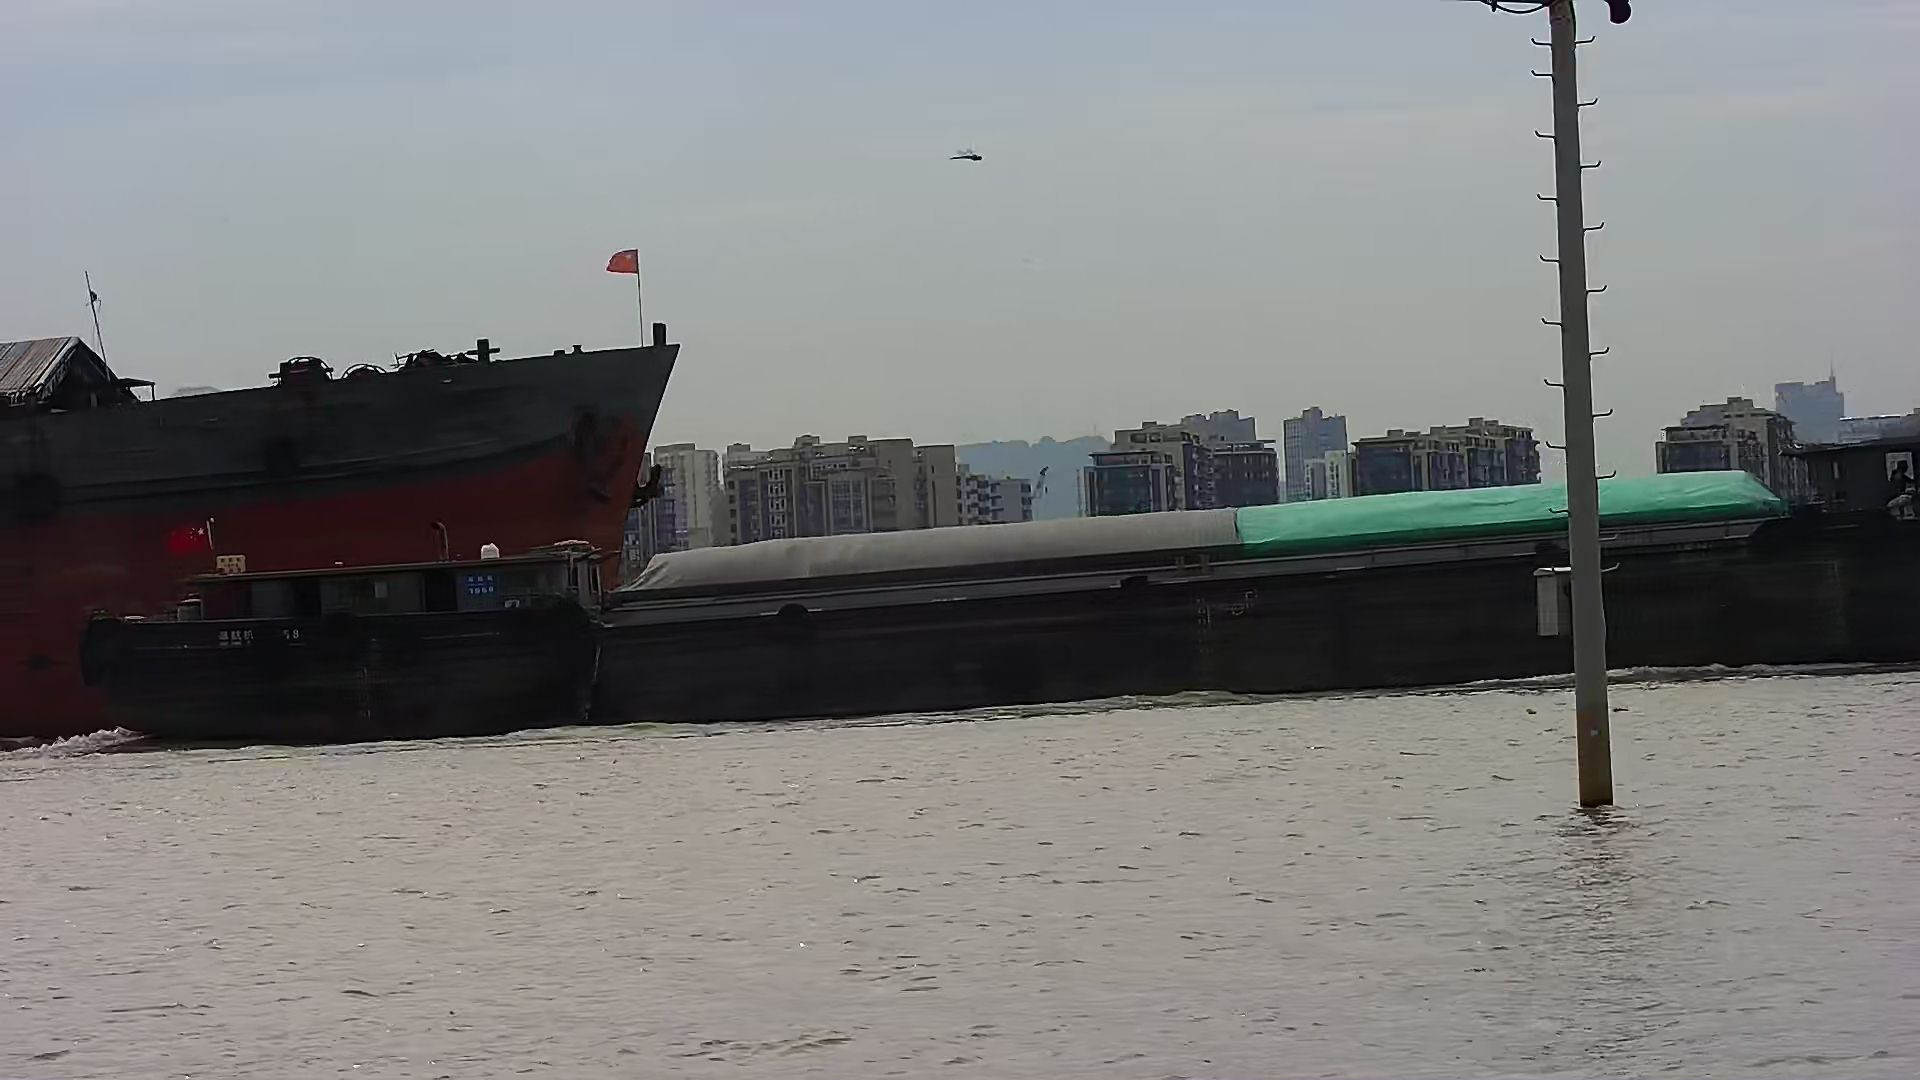mast: (1484, 3, 1633, 808)
ship: (76, 436, 1920, 753), (1, 320, 683, 752)
